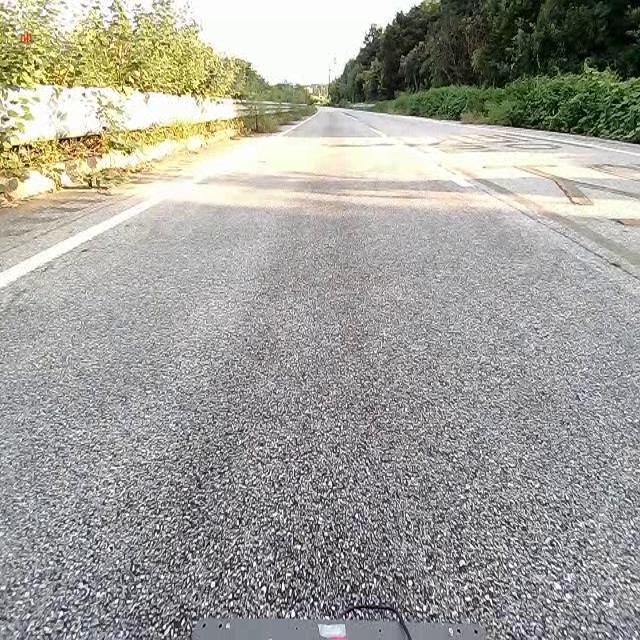Lane: (0, 188, 167, 288), (0, 198, 166, 291)
